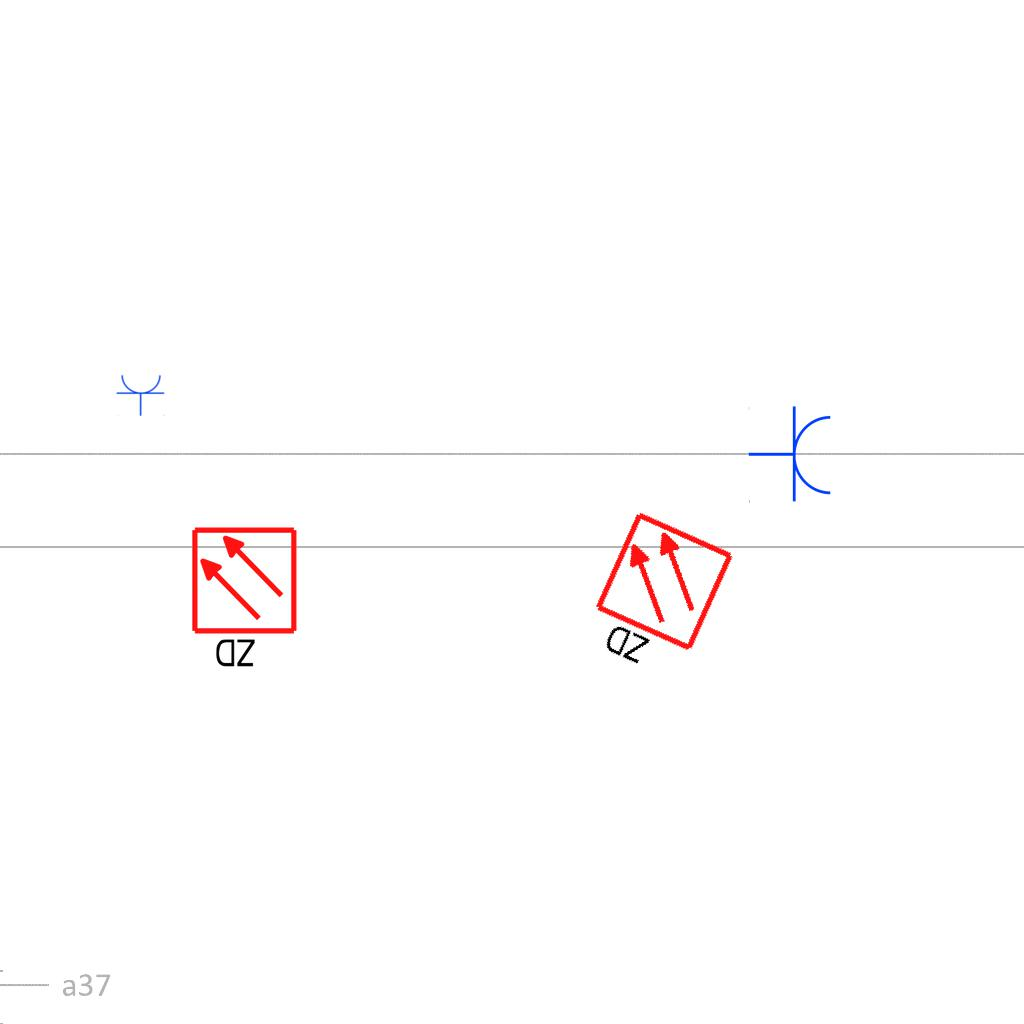Schukosteckdose_einfach: (748, 405, 835, 505), (116, 373, 166, 416)
ZD_Melder_in_Zwischendecke_mit_Revisionsoeffnung_mind_40_x_40_cm: (575, 508, 741, 691), (189, 525, 303, 674)
